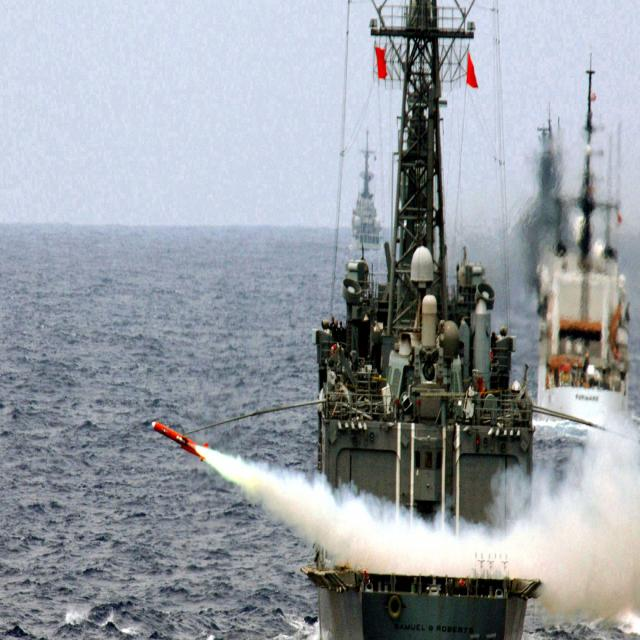navalvessels: (300, 0, 544, 640), (513, 97, 640, 438), (337, 143, 386, 273)
